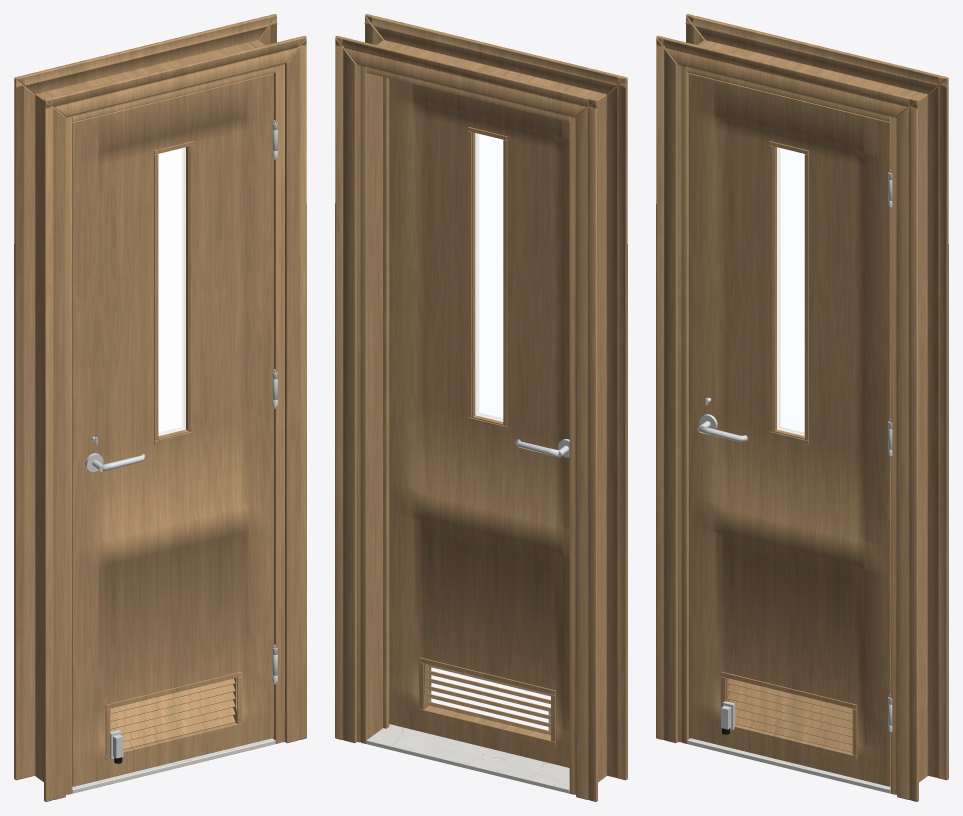
Rendered from mk_door_bath_east_r.glb.
3 renders of one model, left to right at view 1: azimuth 30°, elevation 25°; view 2: azimuth 150°, elevation 25°; view 3: azimuth 330°, elevation 25°, orthographic.
Visible parts, largest first — view 1: mk_door_bath_east_r_leaf_body, mk_door_bath_east_r_casing, mk_door_bath_east_r_frame, mk_door_bath_east_r_louver, mk_door_bath_east_r_glass_slit, mk_door_bath_east_r_handle, mk_door_bath_east_r_hinges; view 2: mk_door_bath_east_r_leaf_body, mk_door_bath_east_r_casing, mk_door_bath_east_r_frame, mk_door_bath_east_r_louver, mk_door_bath_east_r_glass_slit, mk_door_bath_east_r_handle; view 3: mk_door_bath_east_r_leaf_body, mk_door_bath_east_r_casing, mk_door_bath_east_r_frame, mk_door_bath_east_r_louver, mk_door_bath_east_r_glass_slit, mk_door_bath_east_r_handle, mk_door_bath_east_r_hinges.
Boxes of the visible parts, x1,y1,x2,y2 form: mk_door_bath_east_r_leaf_body: (72,73,273,786); mk_door_bath_east_r_casing: (14,14,306,801); mk_door_bath_east_r_frame: (35,40,284,794); mk_door_bath_east_r_louver: (105,141,241,760); mk_door_bath_east_r_glass_slit: (158,147,185,436); mk_door_bath_east_r_handle: (85,436,146,763); mk_door_bath_east_r_hinges: (272,120,277,684); mk_door_bath_east_r_leaf_body: (389,78,569,767); mk_door_bath_east_r_casing: (335,14,627,801); mk_door_bath_east_r_frame: (357,40,606,794); mk_door_bath_east_r_louver: (419,127,555,746); mk_door_bath_east_r_glass_slit: (475,133,503,421); mk_door_bath_east_r_handle: (515,439,569,731); mk_door_bath_east_r_leaf_body: (689,73,890,786); mk_door_bath_east_r_casing: (656,14,948,801); mk_door_bath_east_r_frame: (678,40,927,794); mk_door_bath_east_r_louver: (721,141,857,760); mk_door_bath_east_r_glass_slit: (777,147,804,436); mk_door_bath_east_r_handle: (697,397,747,734); mk_door_bath_east_r_hinges: (888,169,892,733).
Size of the model in its own units: 0.8231 by 2.11 by 0.2148.
5 materials, 2 textured.
